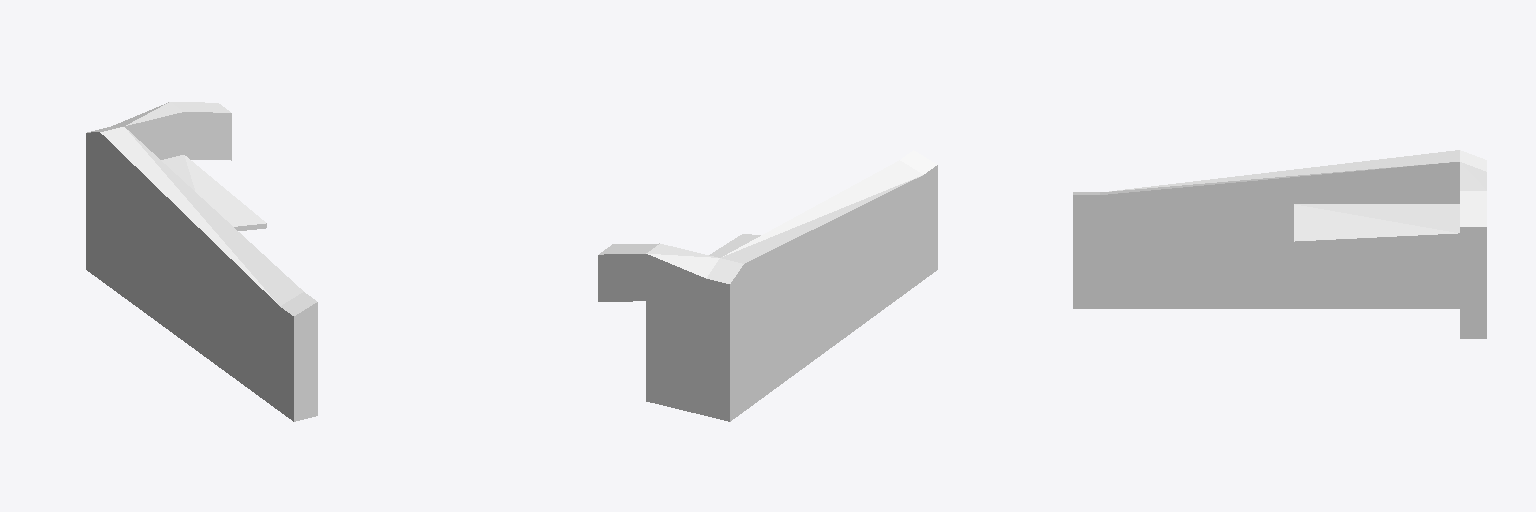
File: House2RuinsLong.obj
3 views of the same model, side by side, from view 1: azimuth 30°, elevation 25°; view 2: azimuth 150°, elevation 25°; view 3: azimuth 270°, elevation 25° (orthographic).
Visible parts, largest first — view 1: House2RuinsLong; view 2: House2RuinsLong; view 3: House2RuinsLong.
Boxes of the visible parts, <box> form: House2RuinsLong: <box>86,102,317,421</box>; House2RuinsLong: <box>598,150,937,421</box>; House2RuinsLong: <box>1073,150,1486,338</box>.
Size of the model in its own units: 2.75 by 2.95 by 7.5.